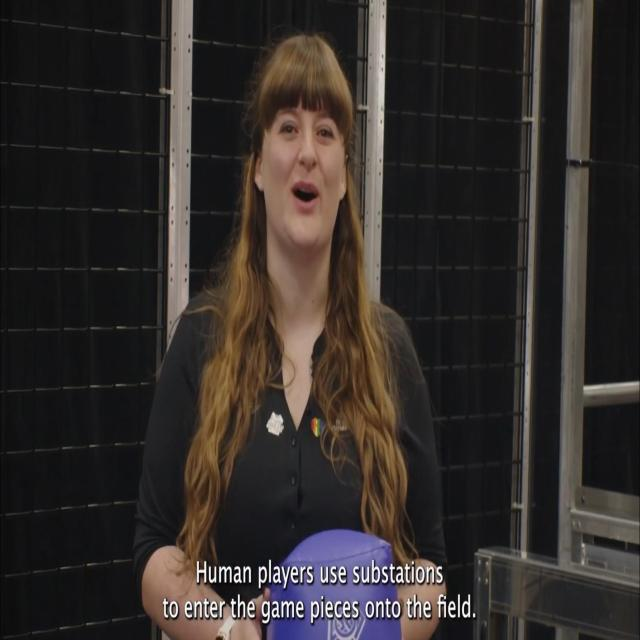frc_cube: (267, 528, 402, 640)
